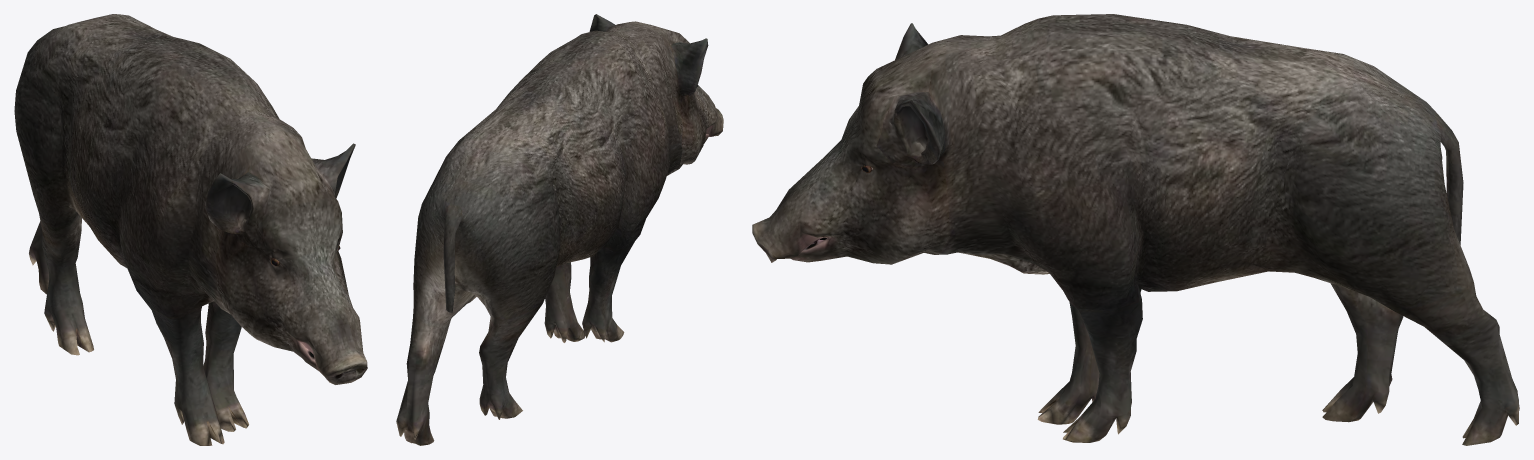
Rendered from boar.glb.
3 renders of one model, left to right at view 1: azimuth 30°, elevation 25°; view 2: azimuth 150°, elevation 25°; view 3: azimuth 270°, elevation 25°, orthographic. The views are drawn at different scales.
Parts seen in each view (by area): view 1: Boar_Lower001_applied_clean_M_Boar_0_M_Boar_0; view 2: Boar_Lower001_applied_clean_M_Boar_0_M_Boar_0; view 3: Boar_Lower001_applied_clean_M_Boar_0_M_Boar_0.
Part boxes in pixels (bbox=[...]): Boar_Lower001_applied_clean_M_Boar_0_M_Boar_0: bbox=[14, 14, 367, 445]; Boar_Lower001_applied_clean_M_Boar_0_M_Boar_0: bbox=[396, 14, 723, 445]; Boar_Lower001_applied_clean_M_Boar_0_M_Boar_0: bbox=[752, 14, 1519, 445].
Bounding box in the file's own units: 0.5065 × 1.11 × 1.91.
1 material, 1 textured.
